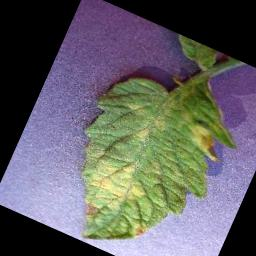Leaf_Mold: (66, 139, 161, 222), (180, 119, 231, 165), (77, 198, 104, 226), (130, 221, 152, 242)
